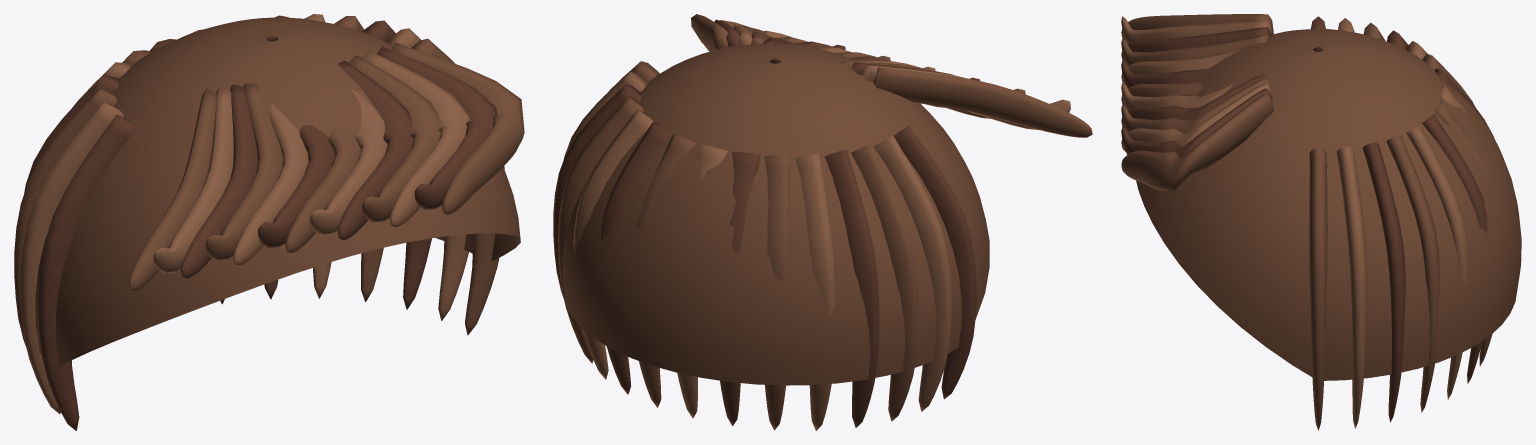
The picture shows the model from 3 angles, left to right: view 1: azimuth 30°, elevation 25°; view 2: azimuth 150°, elevation 25°; view 3: azimuth 270°, elevation 25°; orthographic projection. The views are drawn at different scales.
Visible parts, largest first — view 1: Swept; view 2: Swept; view 3: Swept.
Part boxes in pixels (bbox=[...]): Swept: bbox=[14, 14, 524, 430]; Swept: bbox=[553, 14, 1092, 430]; Swept: bbox=[1121, 14, 1521, 430].
Bounding box in the file's own units: 0.9736 × 0.6551 × 0.797.
